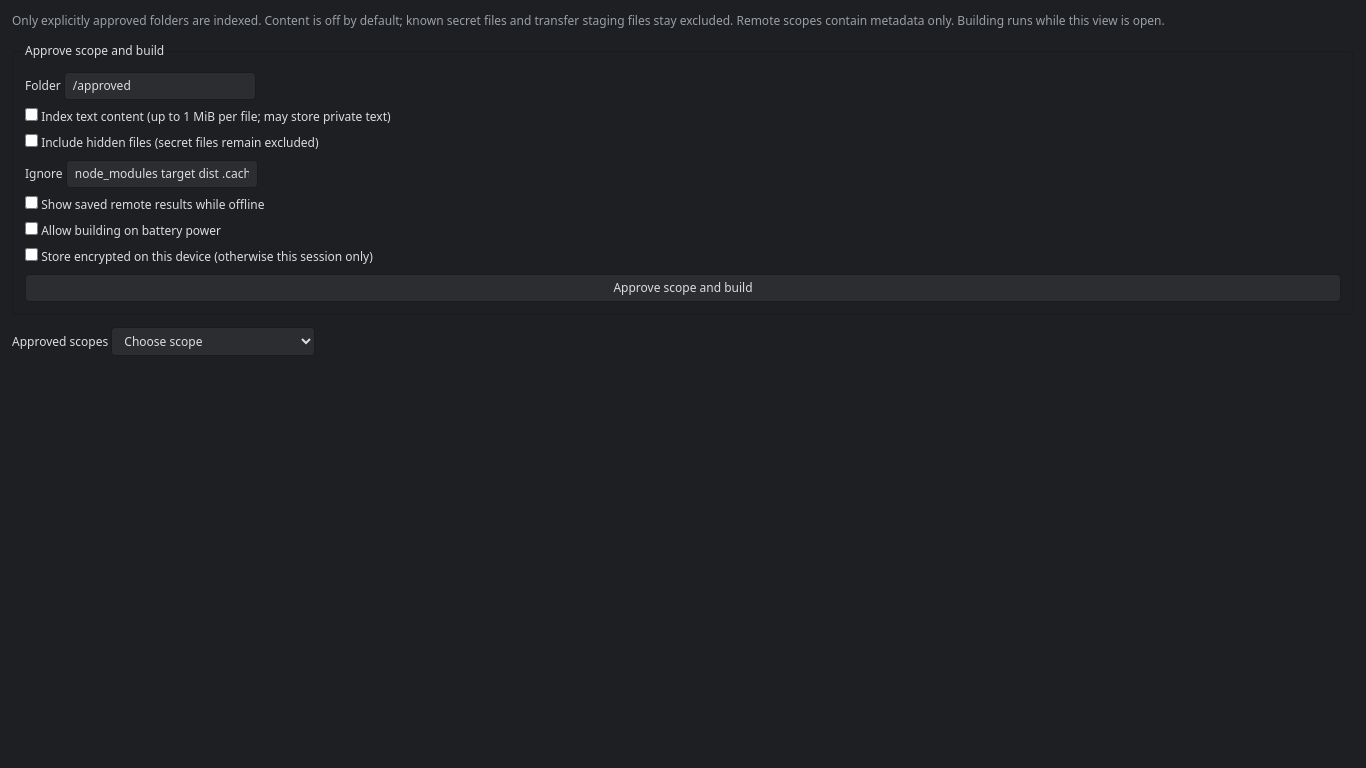
invalidates retained results when the scope is locked while closed
This screenshot has width=1366, height=768.
Select "/approved (0-abcd) — Paused" in the dropdown labelled "Approved scopes" at [213, 342], box x1=111 y1=327 x2=315 y2=356
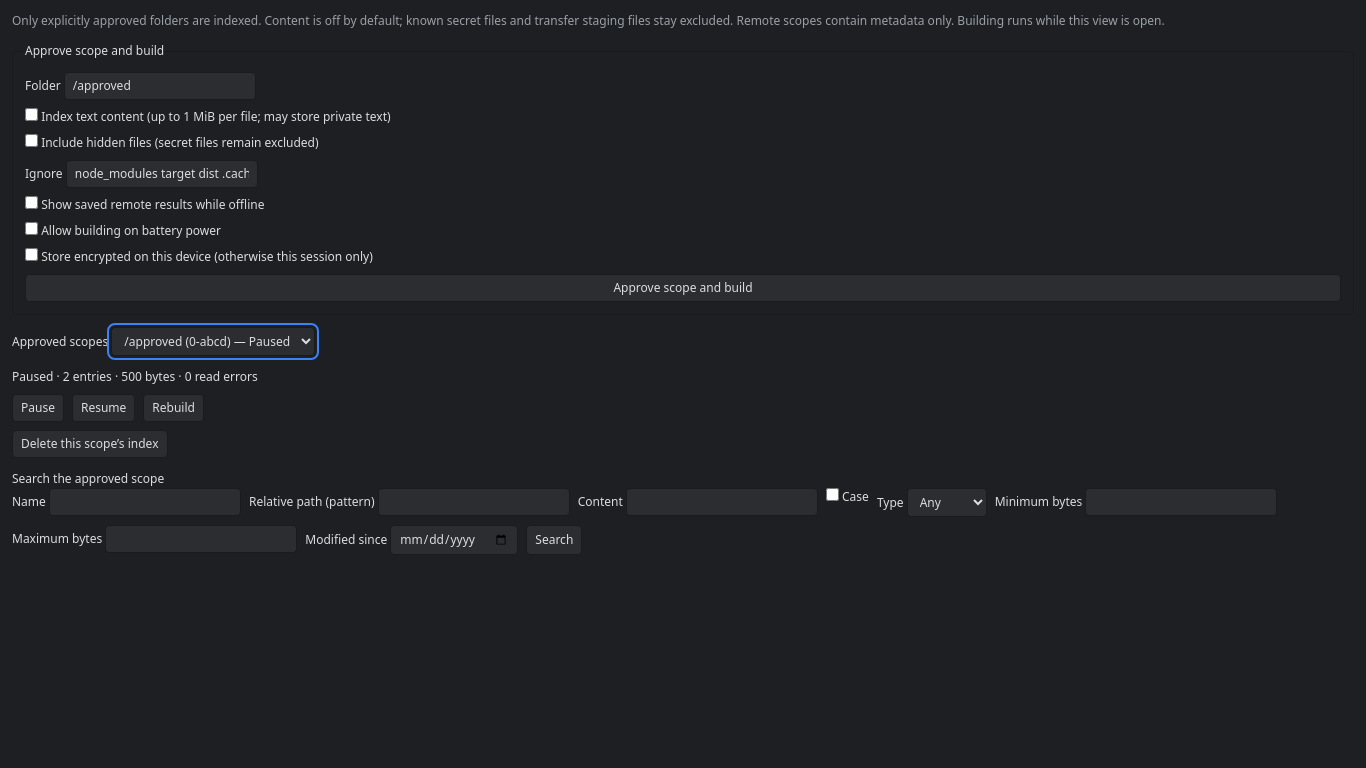
Result: the button "Search" is enabled
Click the button "Search" at [554, 540], box x1=526 y1=525 x2=582 y2=555
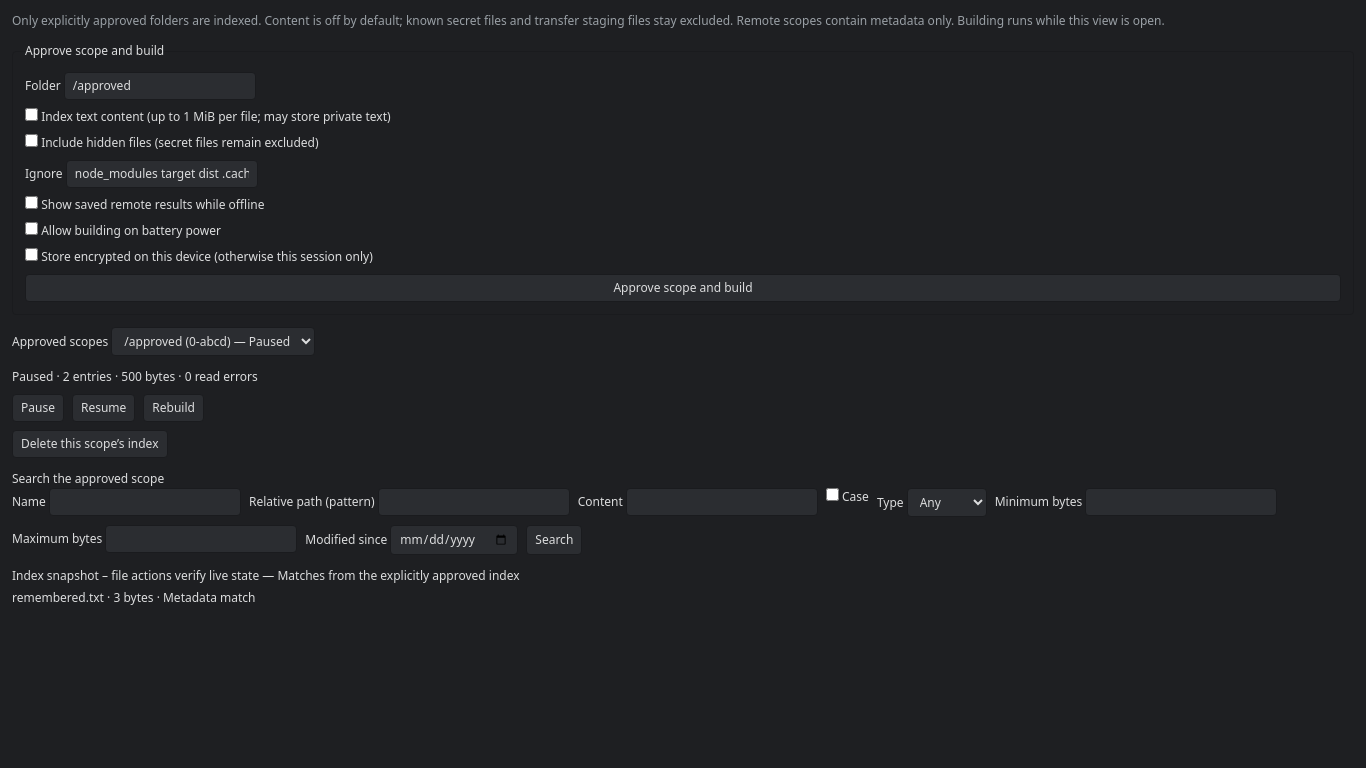
Result: the button "remembered.txt" is shown at x1=12 y1=585 x2=104 y2=611
